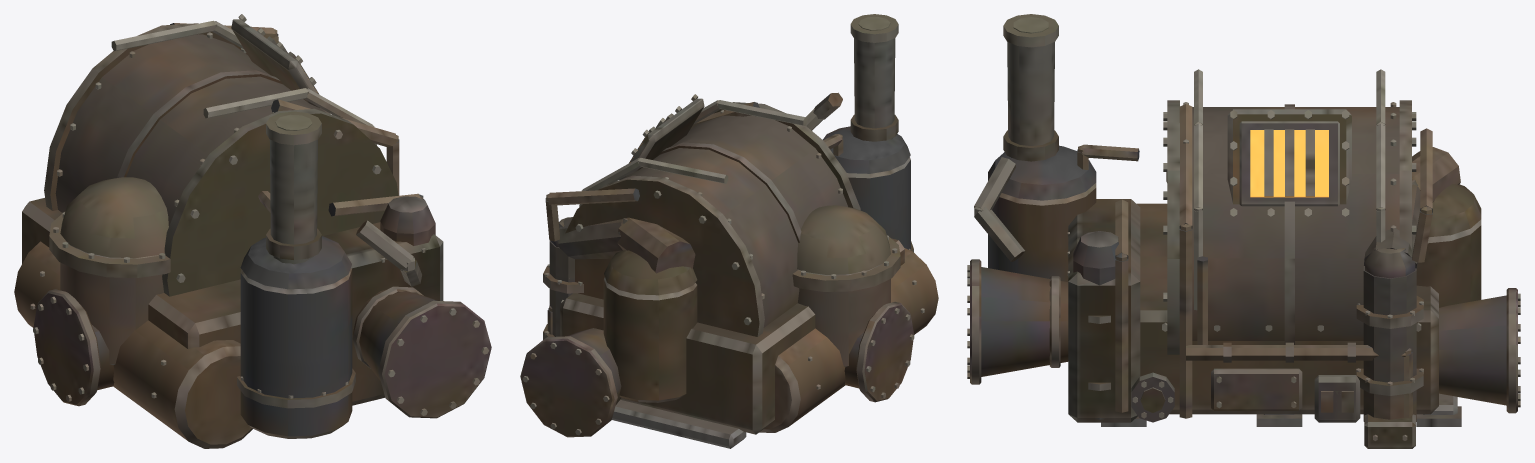
Rendered from boiler-west.glb.
3 renders of one model, left to right at view 1: azimuth 30°, elevation 25°; view 2: azimuth 150°, elevation 25°; view 3: azimuth 270°, elevation 25°, orthographic. The views are drawn at different scales.
Parts seen in each view (by area): view 1: body; view 2: body; view 3: body.
Boxes of the visible parts, x1,y1,x2,y2 form: body: (14,14,491,448); body: (520,14,938,448); body: (967,14,1520,448).
Bounding box in the file's own units: 2.06 × 1.96 × 2.99.
2 materials, 2 textured.
